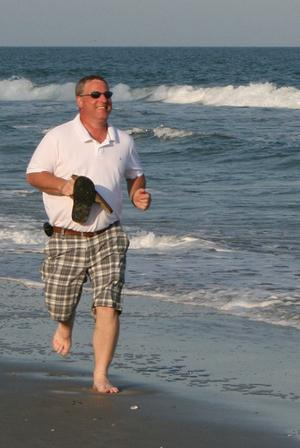person: (26, 76, 153, 394)
